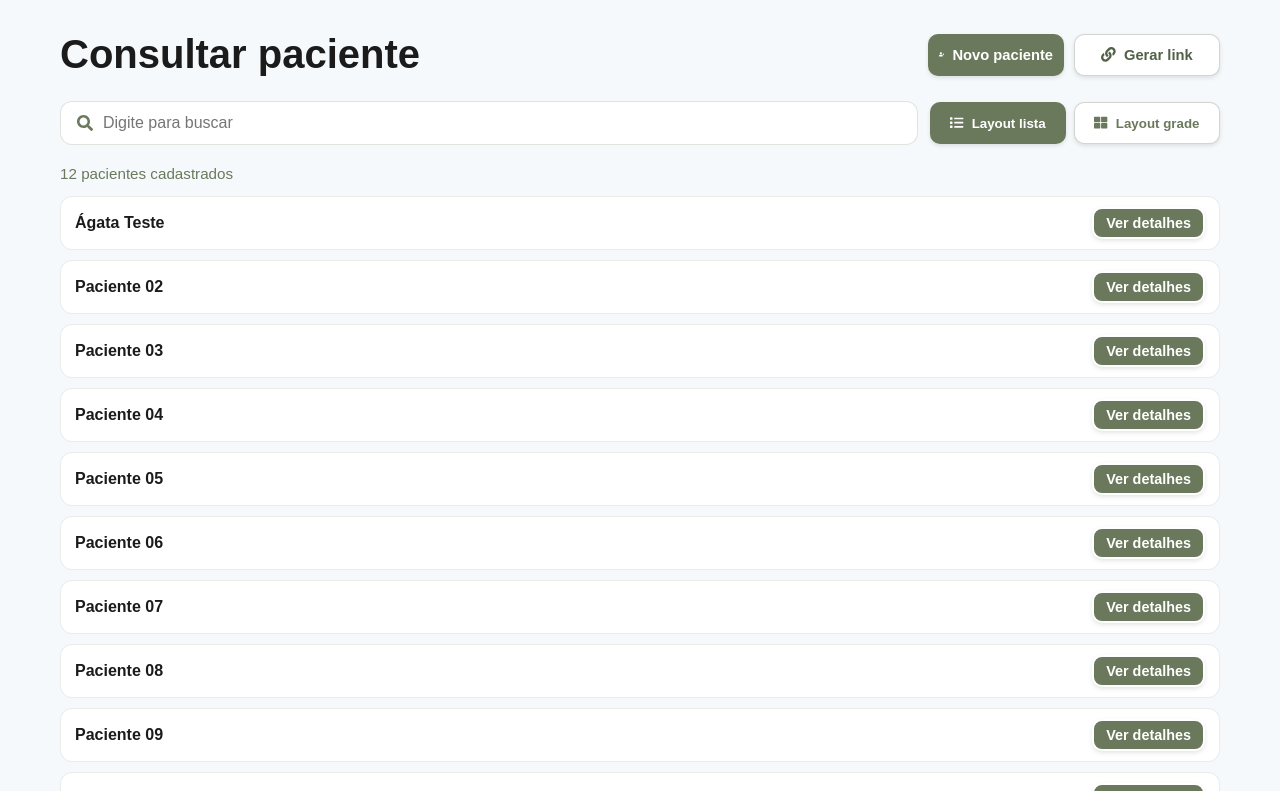
Test: PatientsSearch › mantém o envio único durante o carregamento
The image size is (1280, 791).
Click the button "Gerar link" at (1147,54), box [1074,34,1220,76]
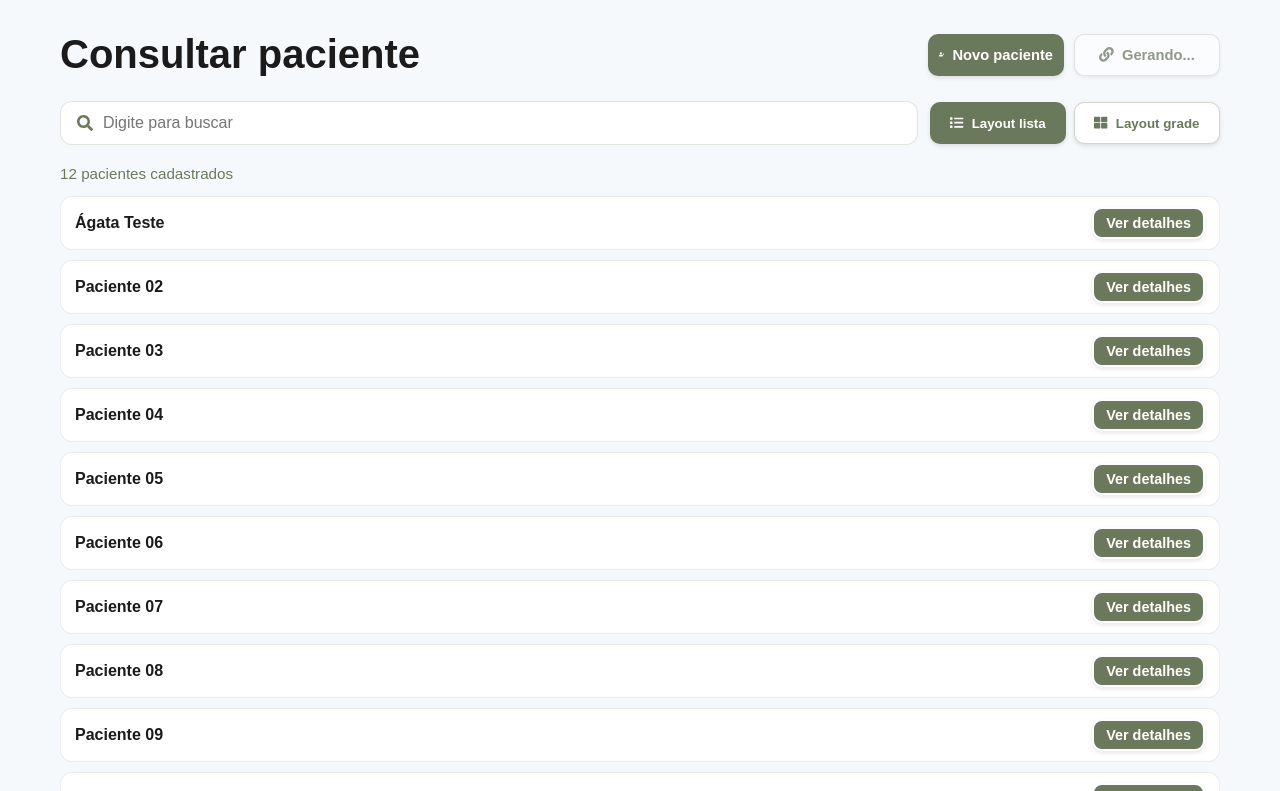
Expected: the button "Gerando..." is disabled
Click the button "Gerando..." at (1147,54), box [1074,34,1220,76]
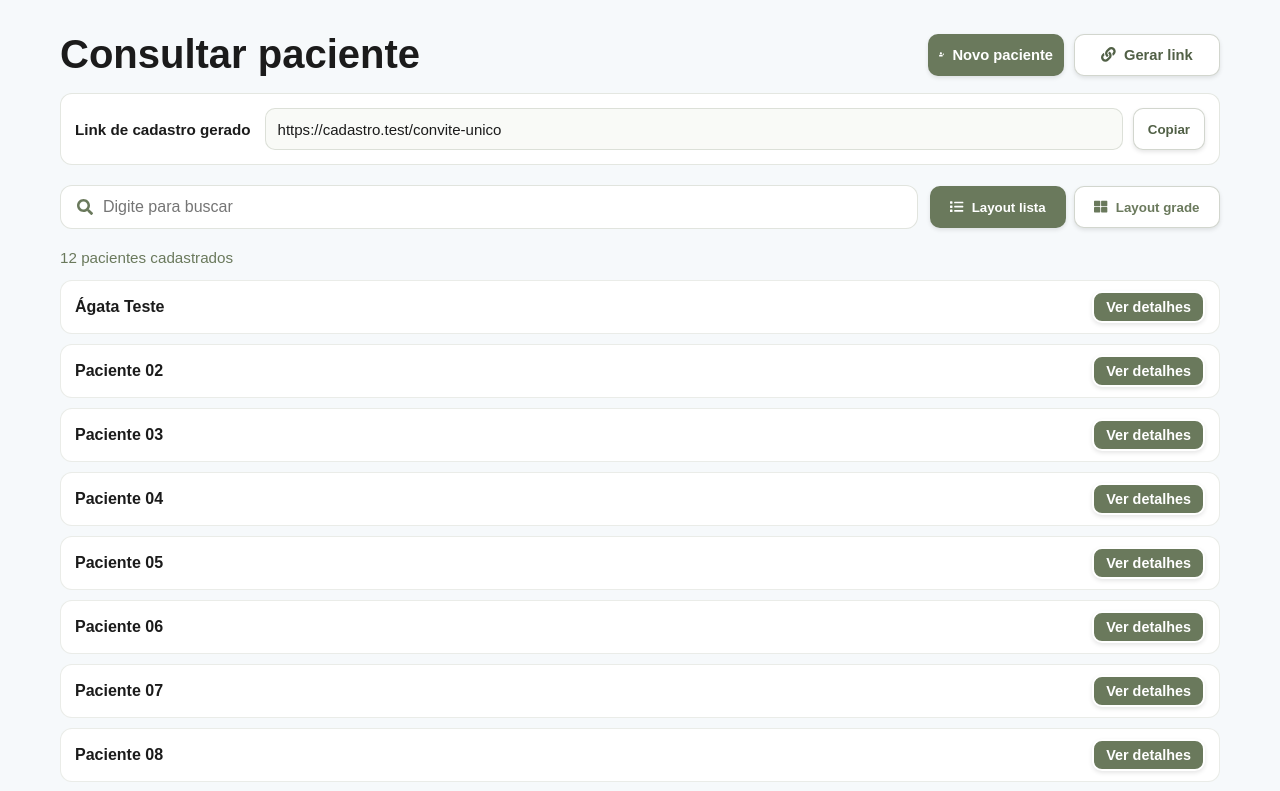
Expected: the button "Gerar link" is enabled, [1074,34,1220,76]
